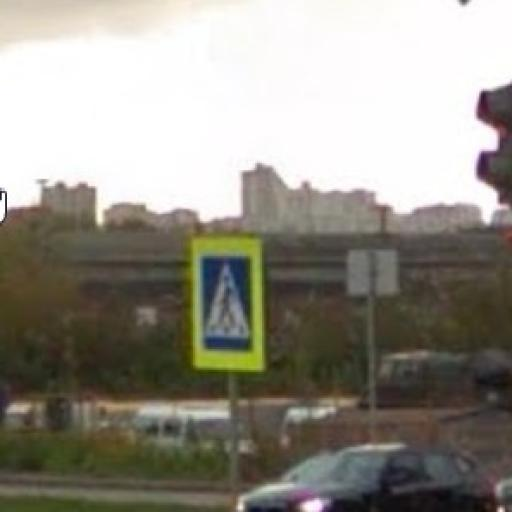traffic_sign: (189, 236, 266, 374)
